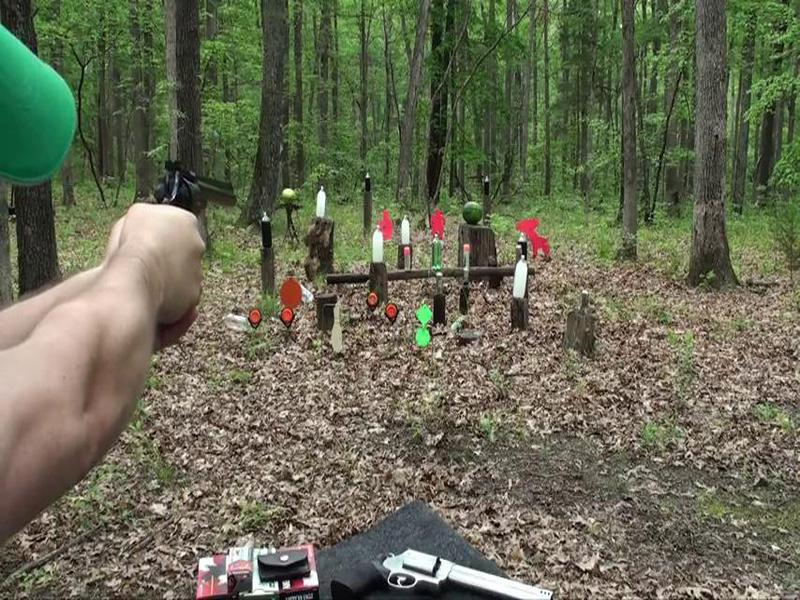Revolver: (137, 145, 250, 239)
